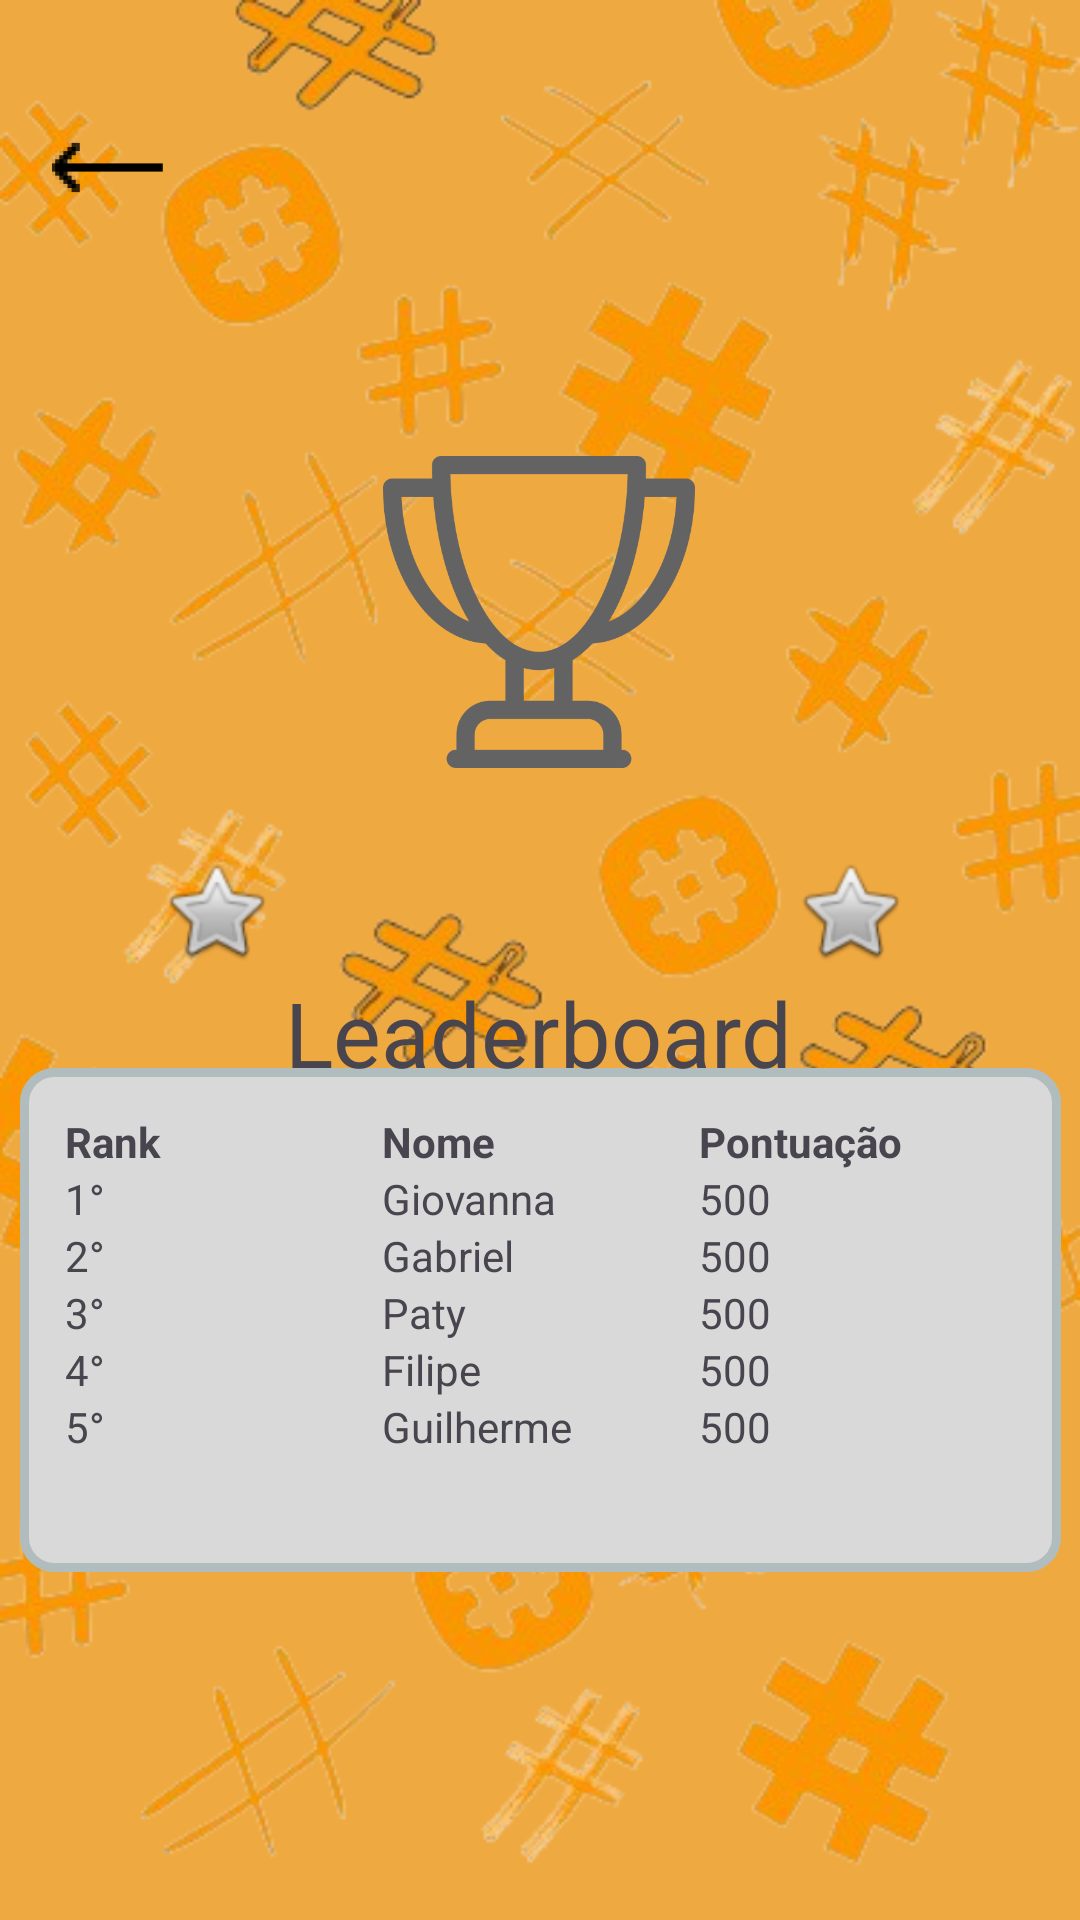

Locate icon controls on the screen. Image size 1080w x 1920h, boxes as box=[x1, y1, x2, y2].
flechaicon: box=[52, 112, 163, 237]
star: box=[159, 854, 273, 968], box=[803, 866, 899, 958]
